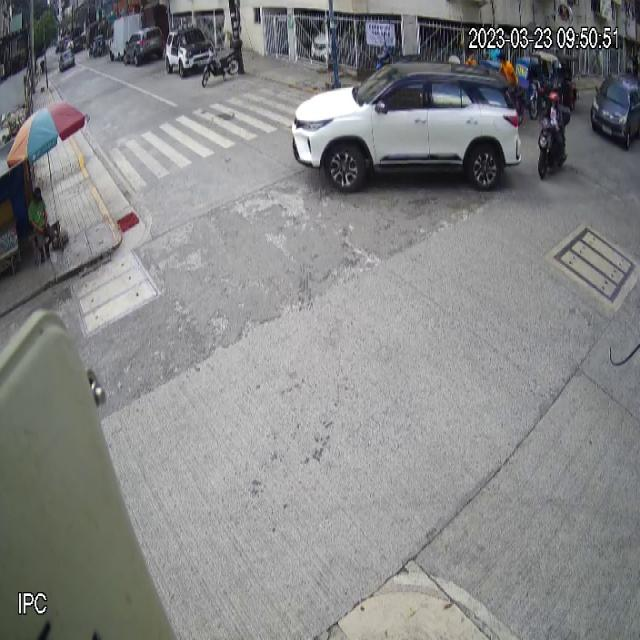Car: (290, 60, 524, 195)
